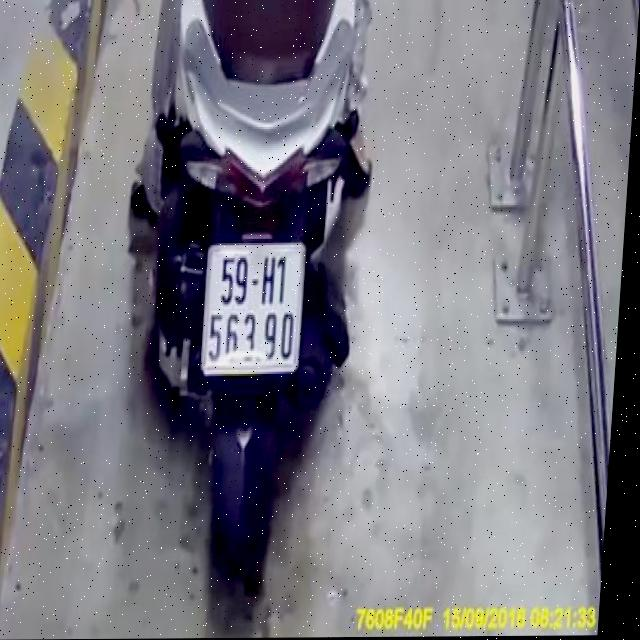motorcycle: (109, 0, 395, 605)
plate: (192, 240, 309, 377)
